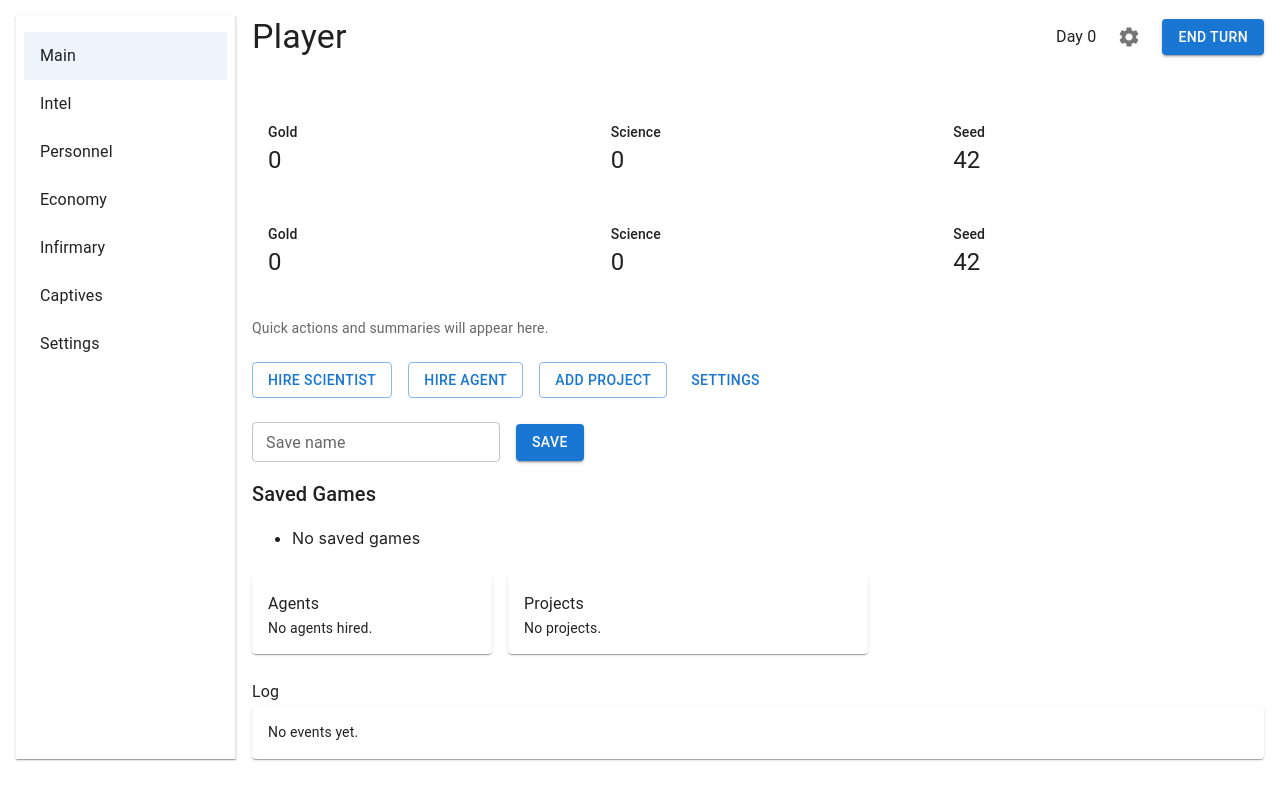
it: Dashboard persistence UI › saves a named game and refreshes saved list
Type "mysave" into the field labelled "Save name" at {"x": 376, "y": 442}, box [252,422,500,462]
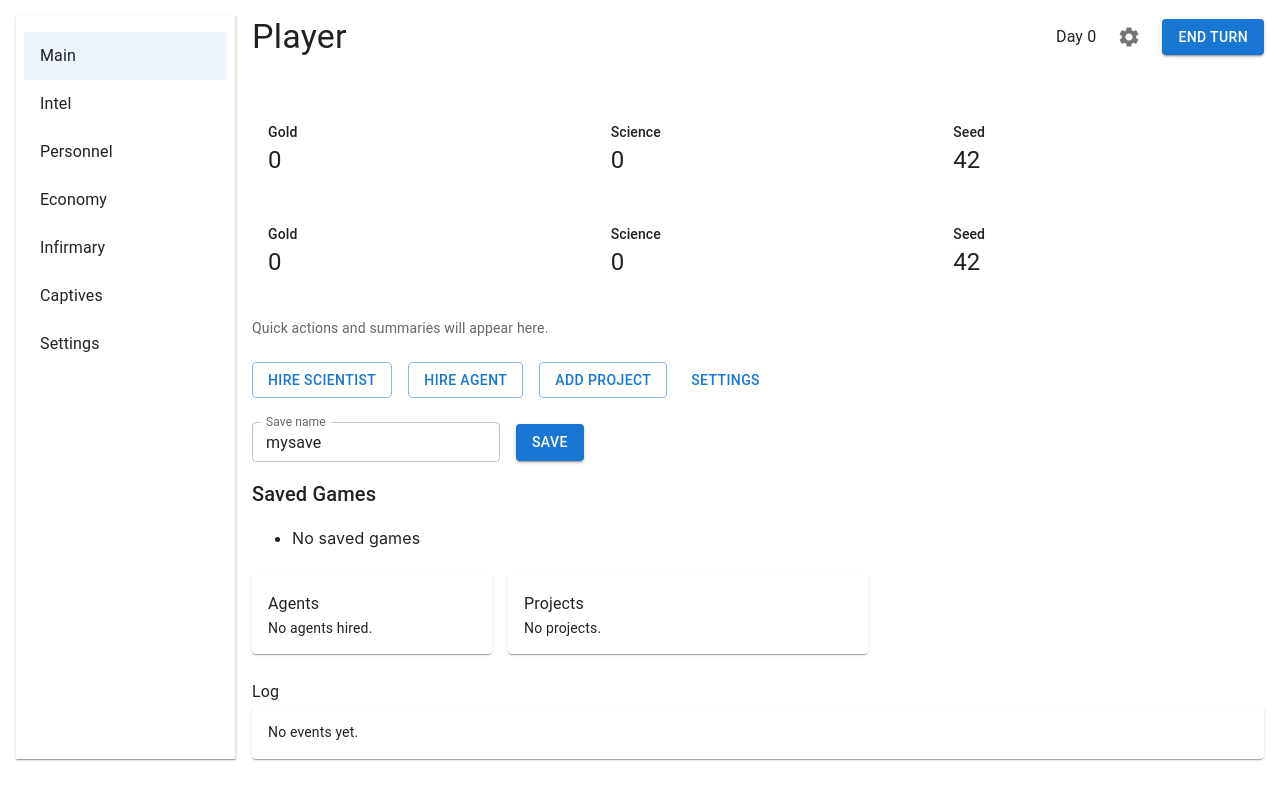
Click the button "Save" at {"x": 550, "y": 442}, box [516,424,584,461]
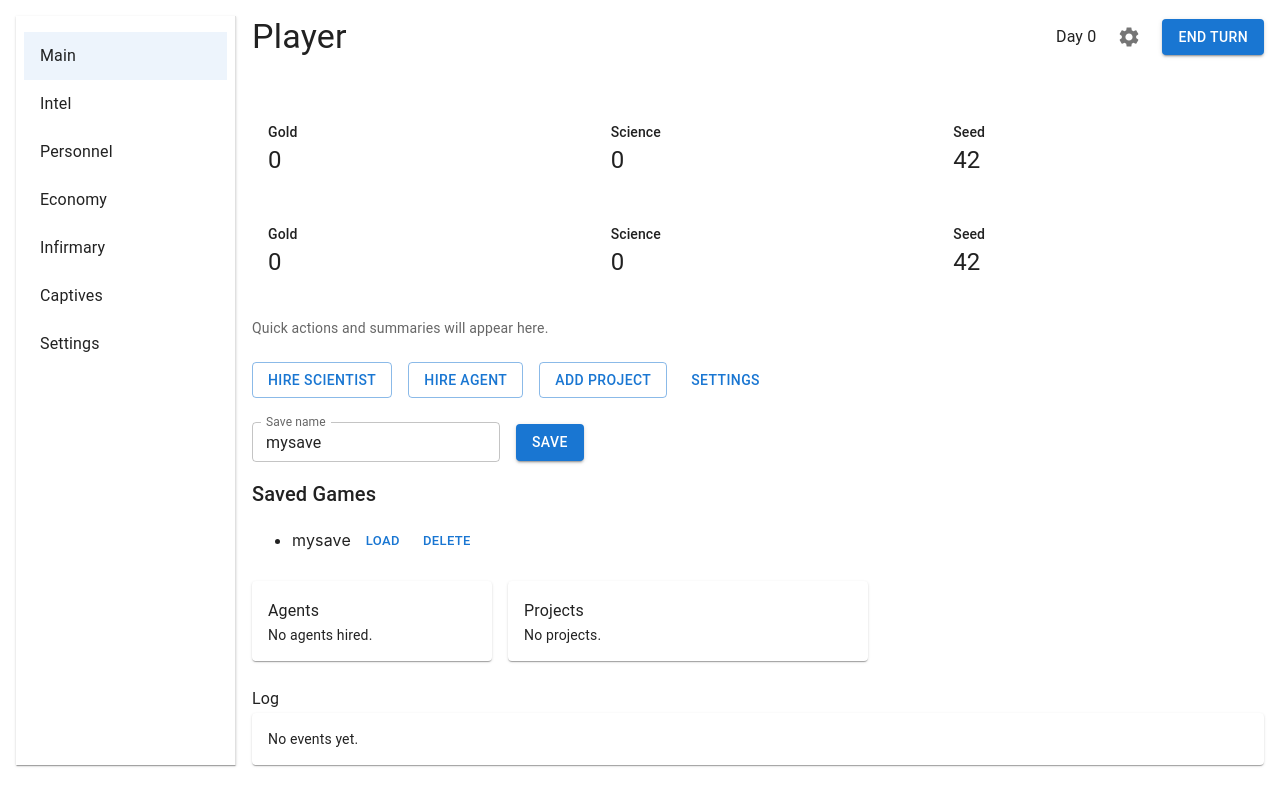
Now the list item "mysave" is shown, box [292,530,351,550]
